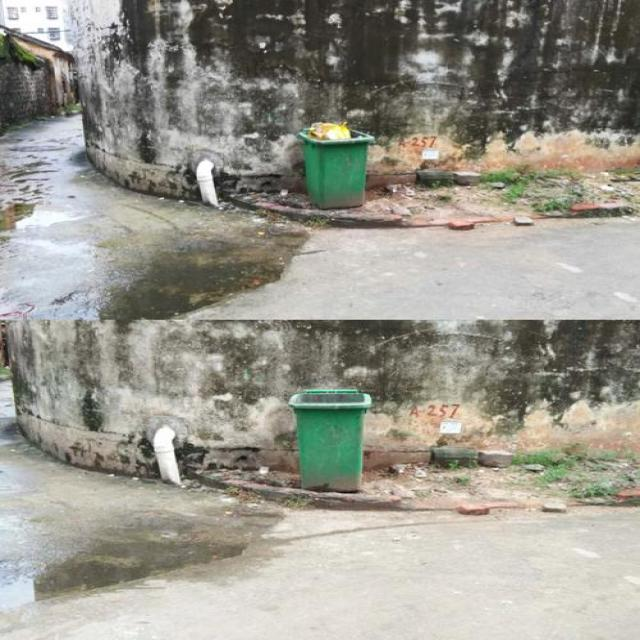garbage_bin: (288, 387, 369, 491)
overflow: (294, 122, 372, 208)
